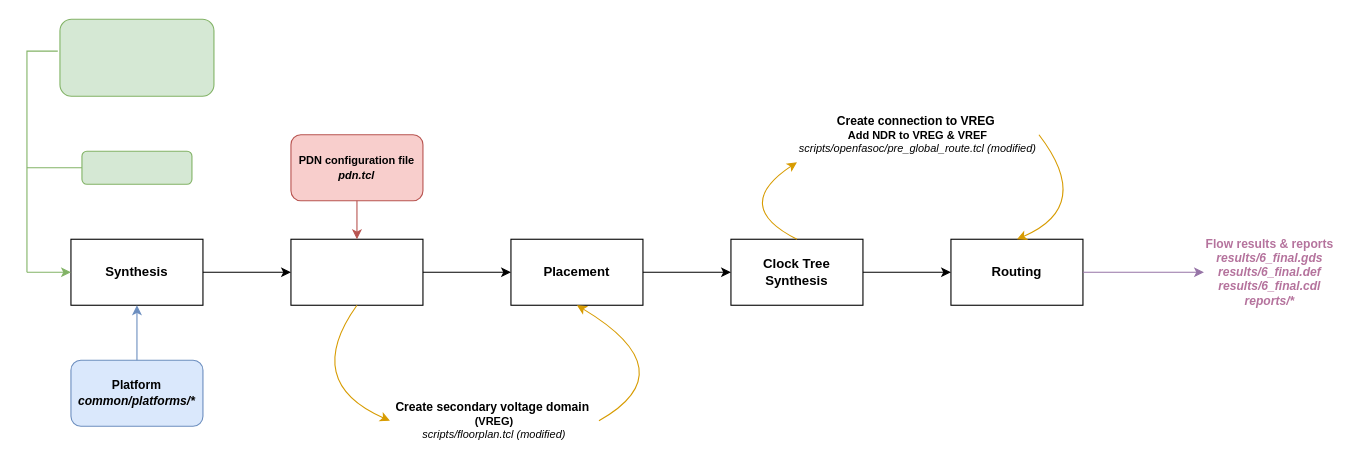
The diagram is 1355 pixels wide and 468 high, and some of its shapes have lost their labels. The centre of each missing label's shape, as x and y in pixels:
config.mk: the point at 136,167
FLoorplan: the point at 356,271
Generated Verilog files ldoInst.v LDO_CONTROLLER.v: the point at 136,57
